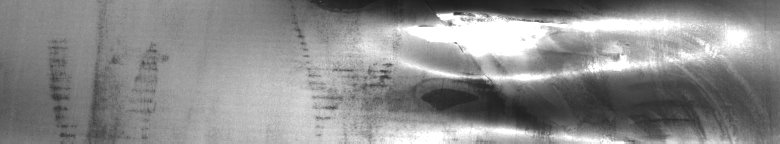ke: (294, 4, 727, 136)
